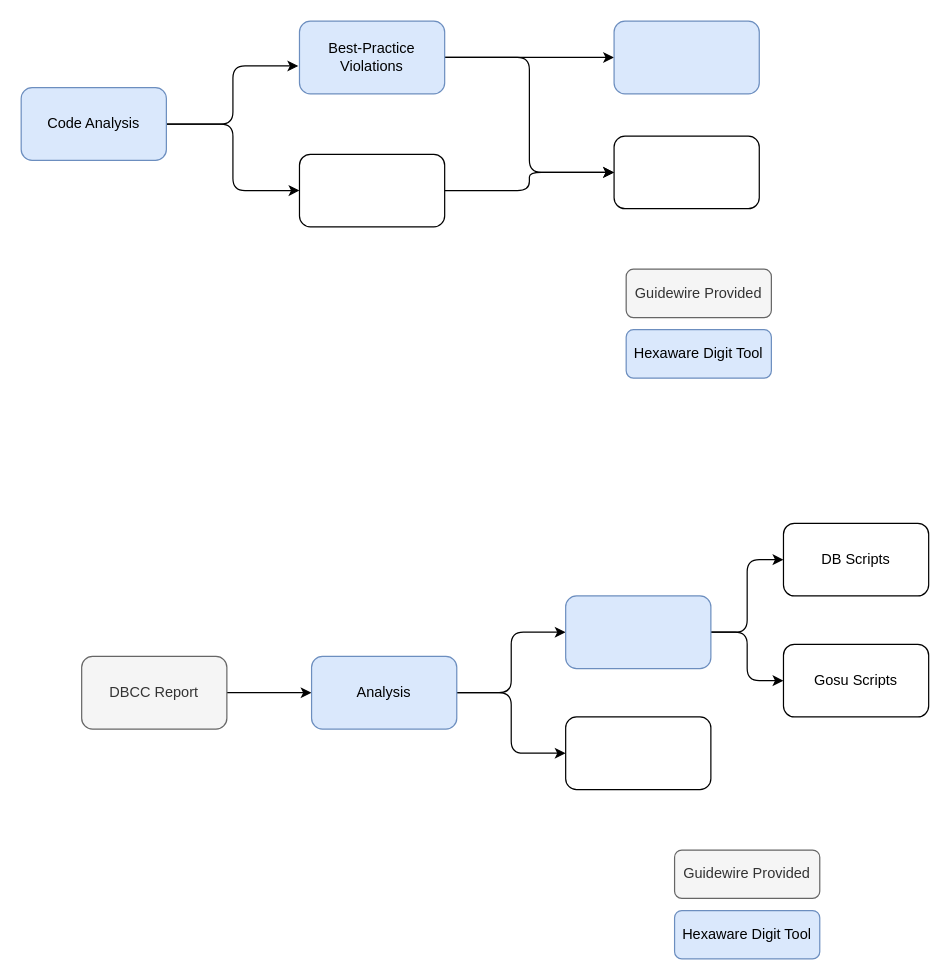
Image size: 950x980. Some labels were removed from this diagram. Each missing label, with the centre of its shape:
Automatic Fixes: pixel 686 57
Cloud Standard: pixel 371 190
Manual Fix with Recommendations: pixel 686 172
Manual Fixes: pixel 637 753
Script Generation: pixel 637 632
